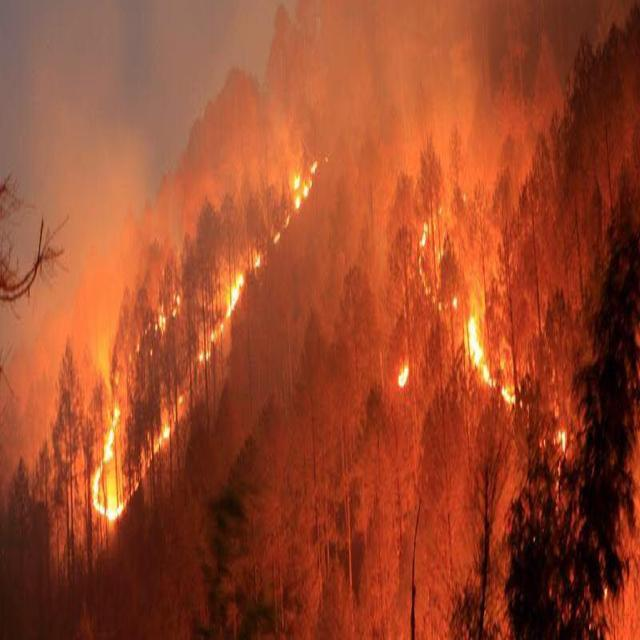Fire: (90, 357, 172, 533), (449, 282, 518, 410), (204, 226, 250, 335), (294, 167, 315, 211)
Smoke: (15, 32, 191, 417), (324, 13, 476, 302)
